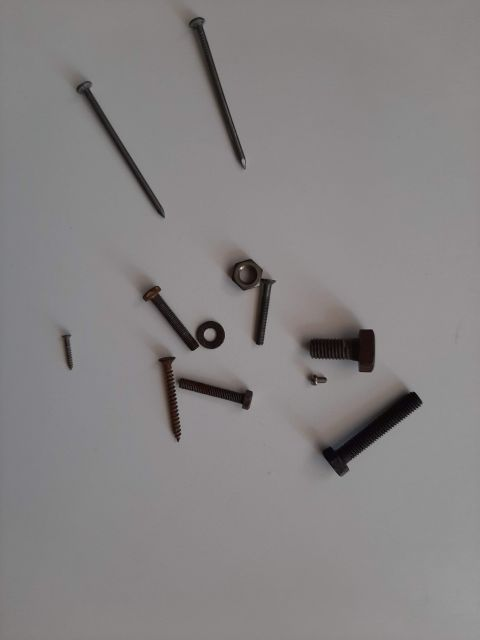gwozdz: (65, 65, 185, 235), (175, 5, 275, 175)
nakretka: (215, 245, 275, 295)
podkladka: (175, 305, 245, 355)
sruba: (305, 385, 425, 495), (125, 275, 205, 355), (175, 355, 275, 415), (305, 305, 365, 365), (245, 265, 295, 335)
